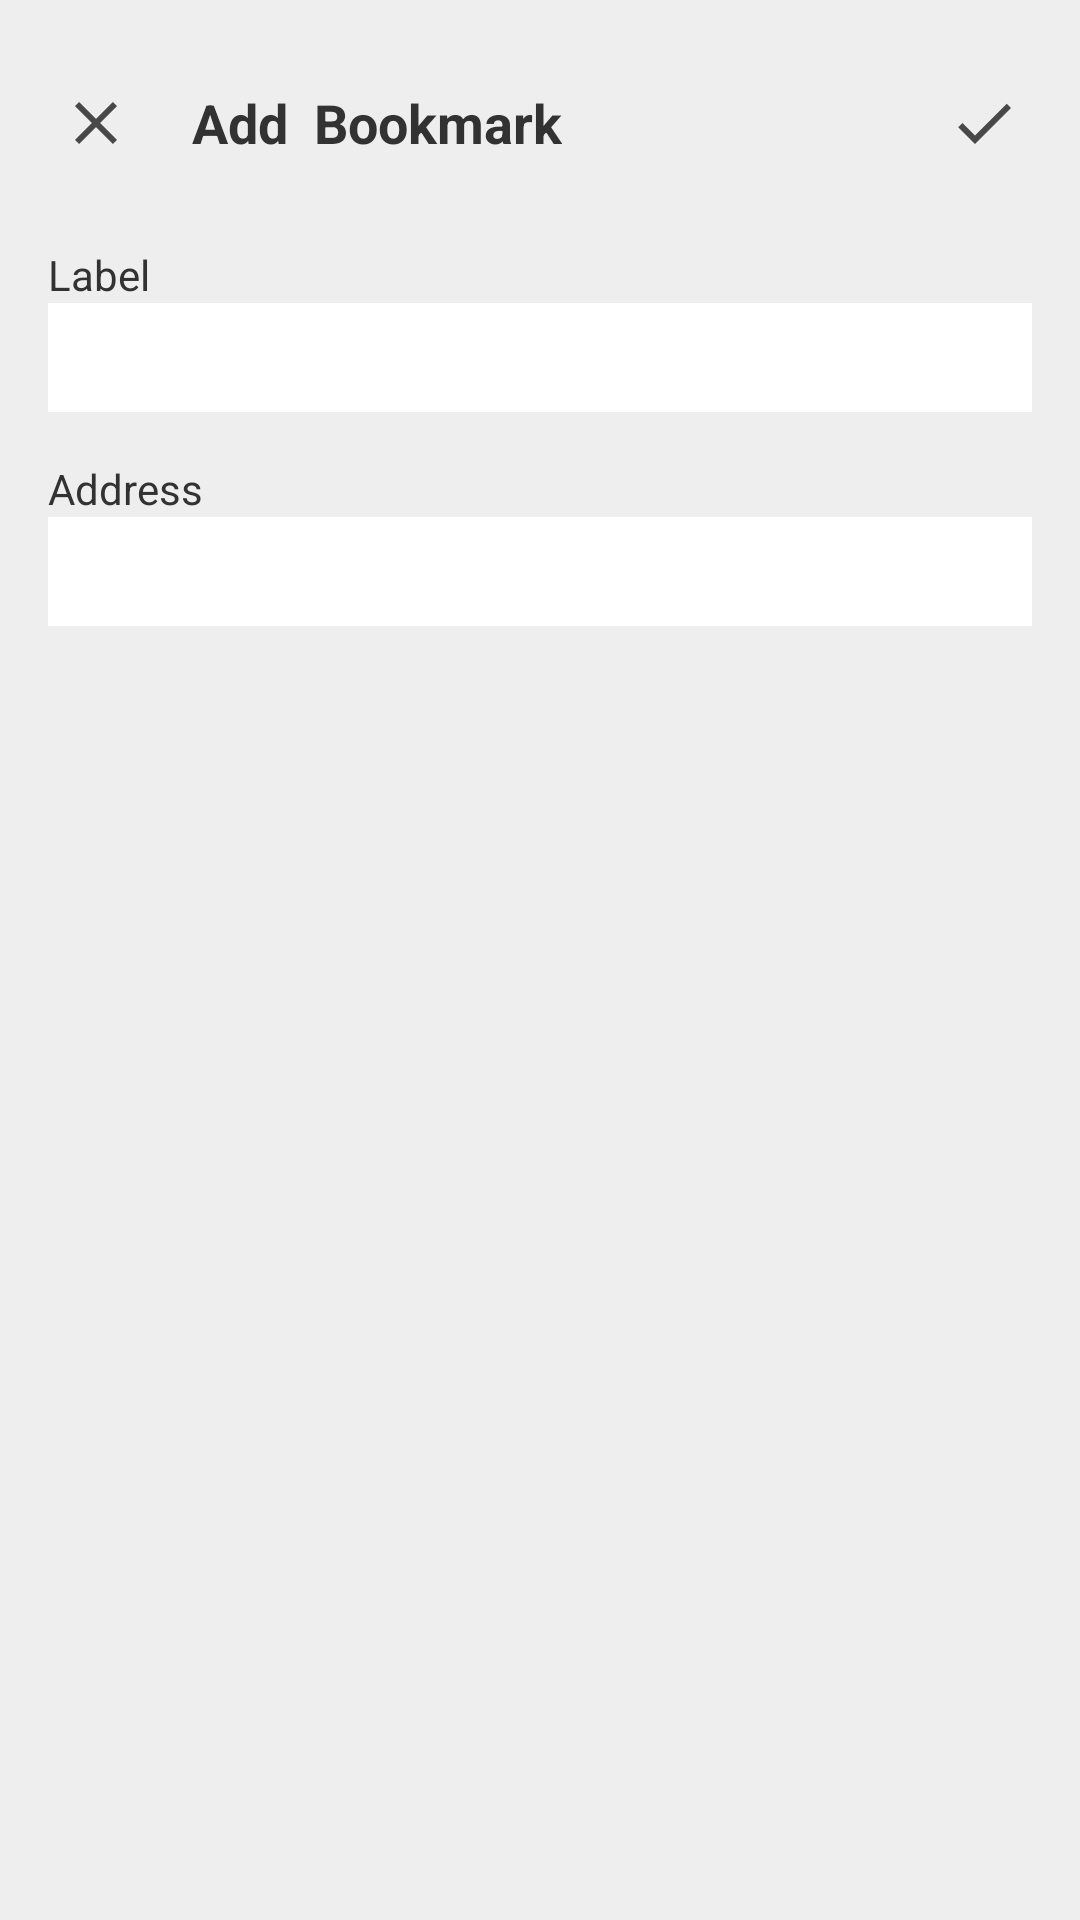

Named icons in this screenshot (1080px×1920px) and their centers, [x,y]:
close: [96,123]
save: [984,124]
